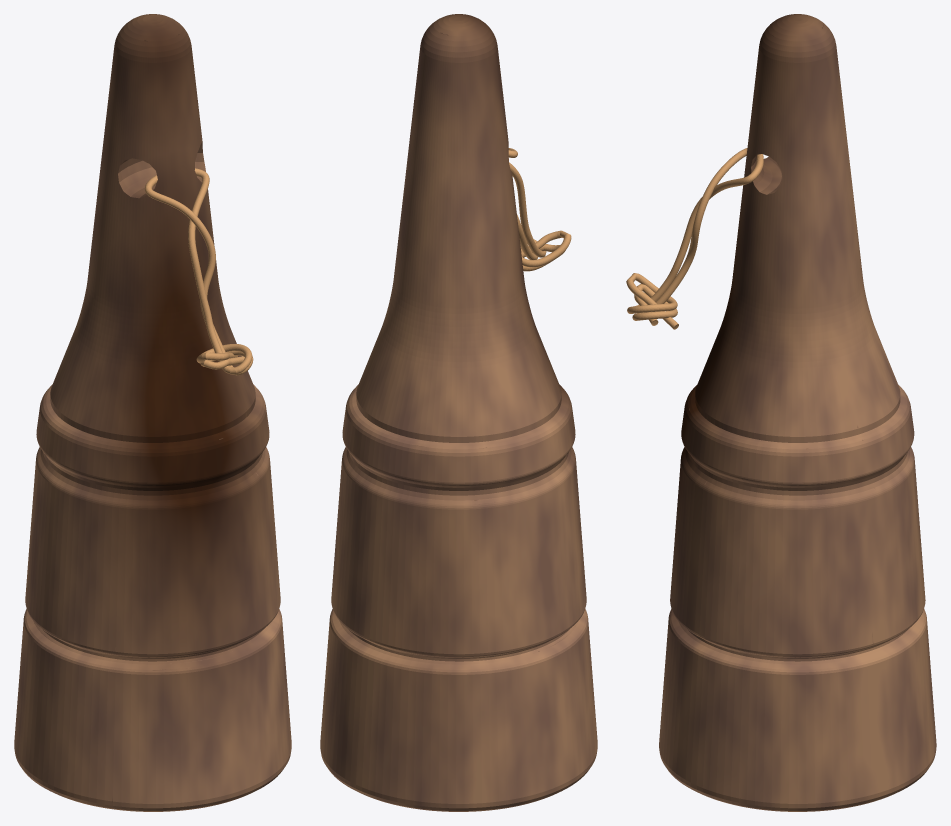
Rendered from Survin.fbx.
3 views of the same model, side by side, from view 1: azimuth 30°, elevation 25°; view 2: azimuth 150°, elevation 25°; view 3: azimuth 270°, elevation 25° (orthographic).
Visible parts, largest first — view 1: Cylinder; view 2: Cylinder; view 3: Cylinder.
Part boxes in pixels (bbox=[...]): Cylinder: bbox=[14, 14, 291, 811]; Cylinder: bbox=[320, 14, 597, 811]; Cylinder: bbox=[626, 14, 936, 811].
Bounding box in the file's own units: 159 × 468 × 178.
Materials: 2 (1 with a texture image).
